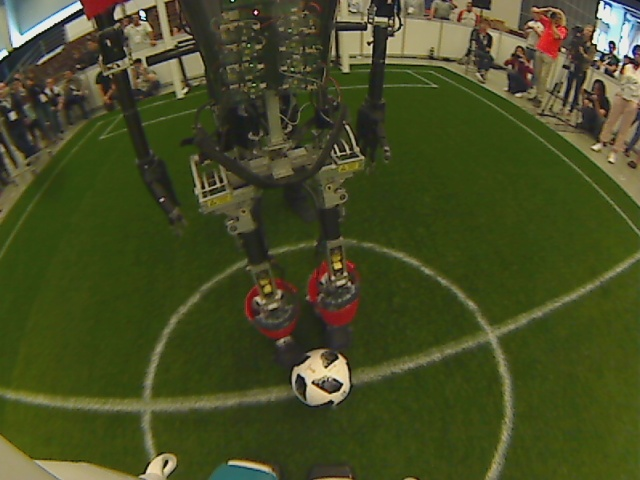ball: (288, 346, 357, 411)
